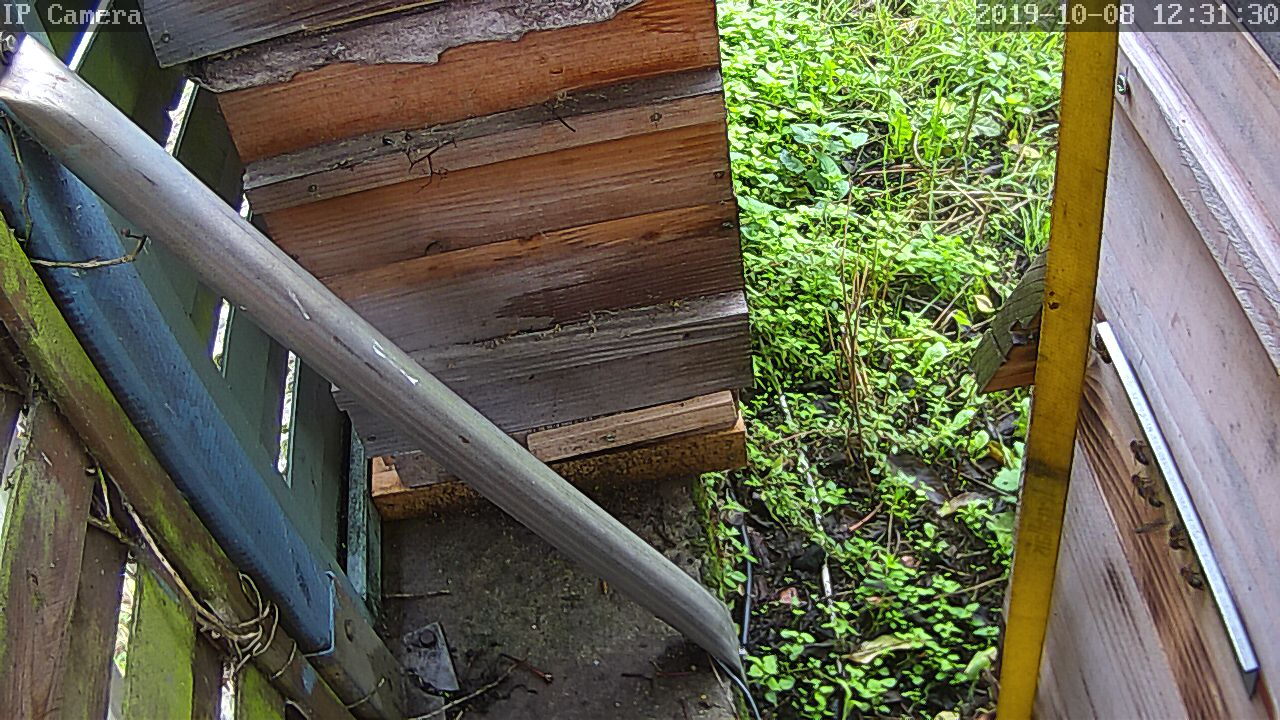bee: (1124, 471, 1166, 512), (1173, 560, 1207, 592), (1088, 331, 1115, 365), (1130, 435, 1153, 469), (1164, 527, 1190, 554)
